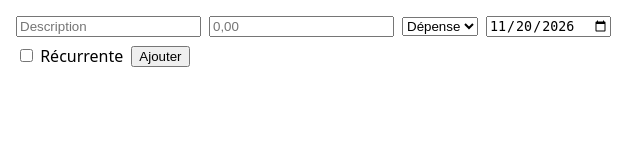
Test: TransactionForm › affiche une erreur si le montant est invalide
The image size is (628, 160).
Type "Courses" into the field labelled "Description" at point(108, 27), box [16,16,201,37]
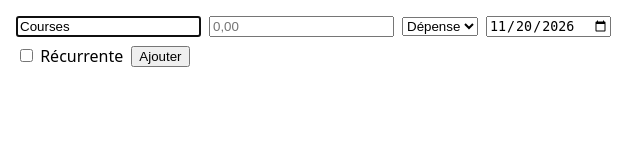
Type "abc" into the field named "Montant" at point(302, 27), box [209,16,394,37]
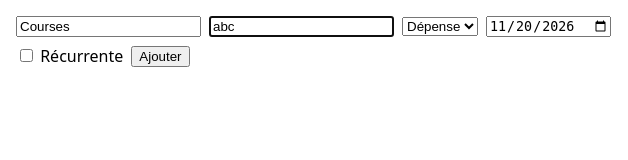
Click the button "Ajouter" at point(160, 56), box [131,46,190,67]
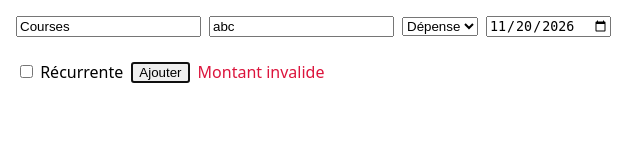
Expected: the text "Montant invalide" is shown, [198,61,324,83]
